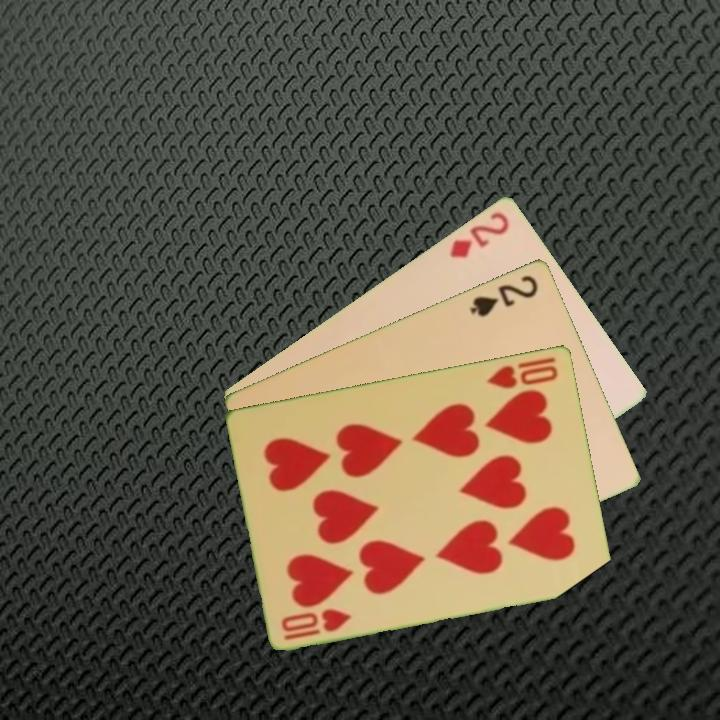10h: (278, 604, 354, 643), (483, 361, 561, 391)
2d: (446, 207, 513, 261)
2s: (466, 271, 541, 320)
